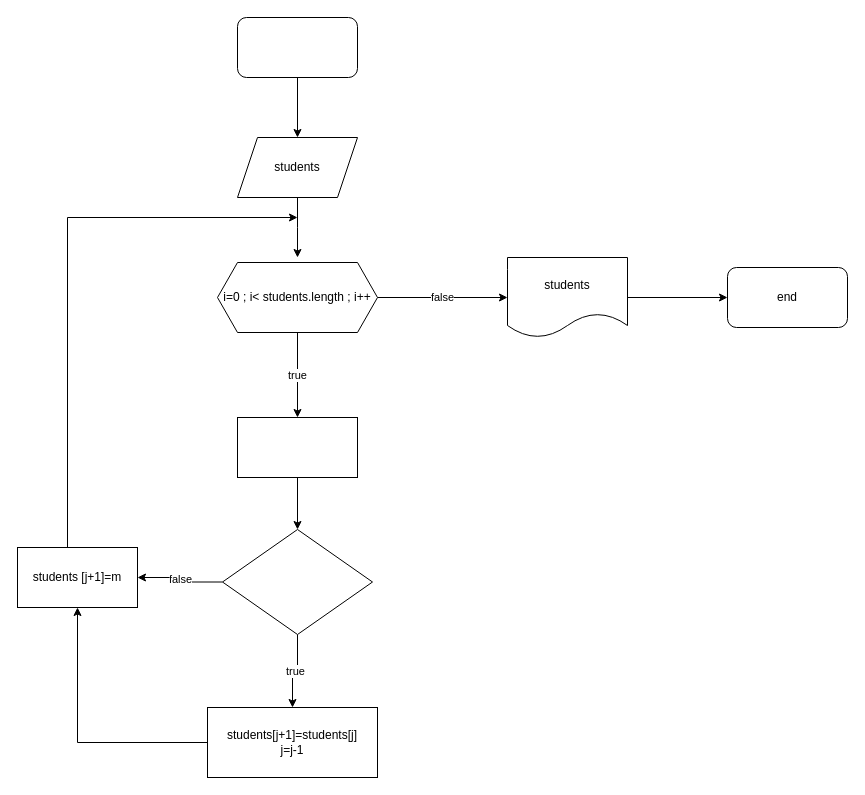
Image size: 865x795. Some labels were removed from this diagram. Here are the shapes that lost their labels. From the top down, the centre of each, then its label:
point 297,47: start
point 297,447: m = students [i] j=i-1
point 297,581: j>=0 && students[j]>m
